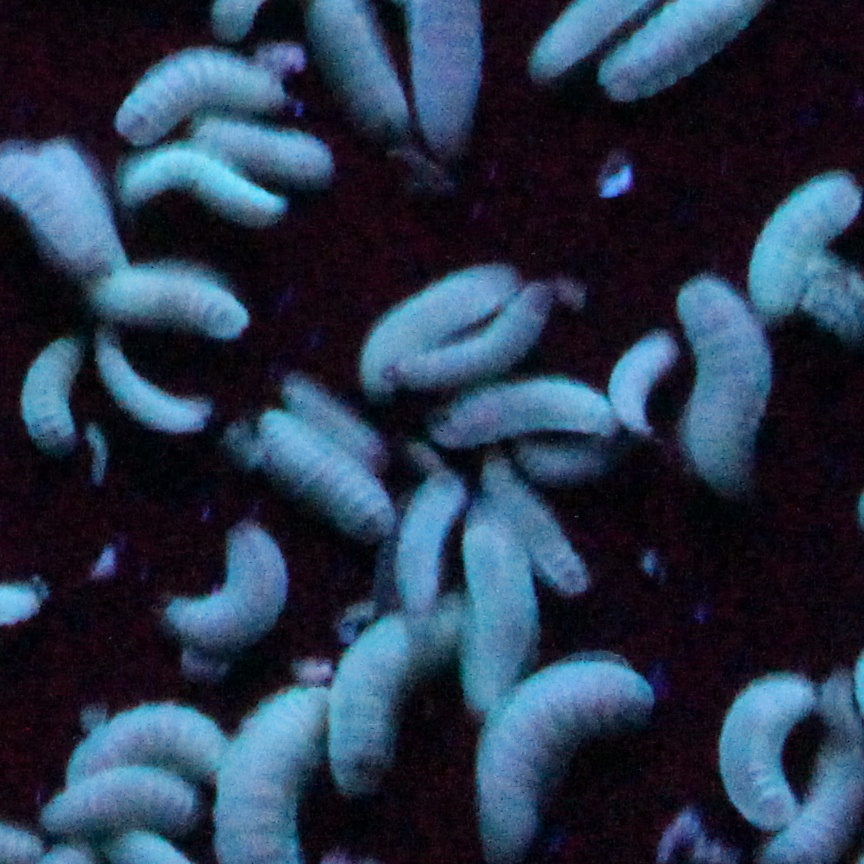larve: (479, 653, 664, 853), (339, 591, 473, 797), (354, 259, 525, 393), (677, 270, 764, 503), (739, 168, 864, 318), (389, 278, 556, 384), (256, 407, 389, 534), (116, 49, 287, 145), (162, 524, 287, 649), (719, 670, 816, 824), (56, 701, 235, 780), (485, 459, 587, 597), (94, 339, 216, 432), (194, 112, 339, 189), (41, 764, 204, 830), (389, 478, 466, 616), (119, 159, 291, 220), (83, 272, 252, 334), (277, 376, 394, 462), (606, 334, 675, 441), (23, 341, 83, 451)
